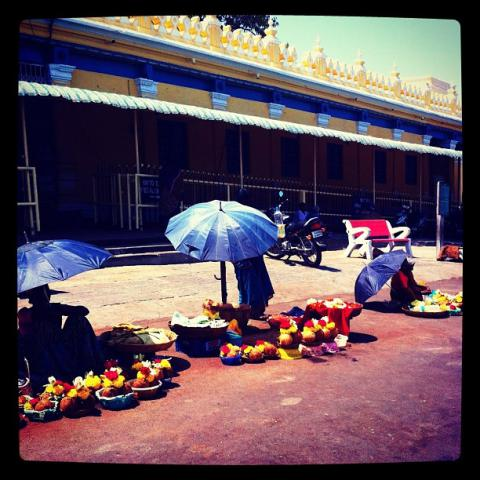motorcycle: (262, 191, 326, 265)
